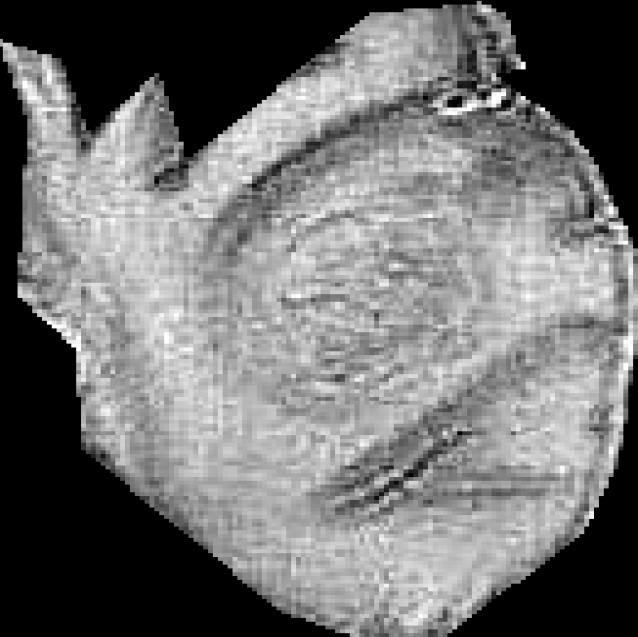tumor_moderate_chance: (0, 1, 638, 637)
